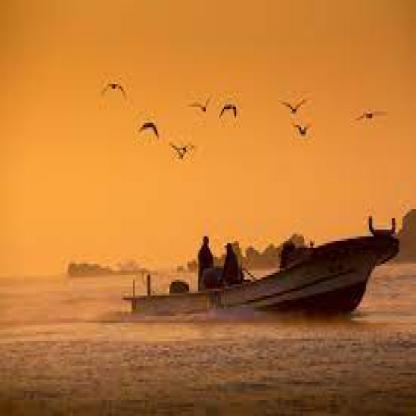fish-b: (115, 204, 405, 338)
